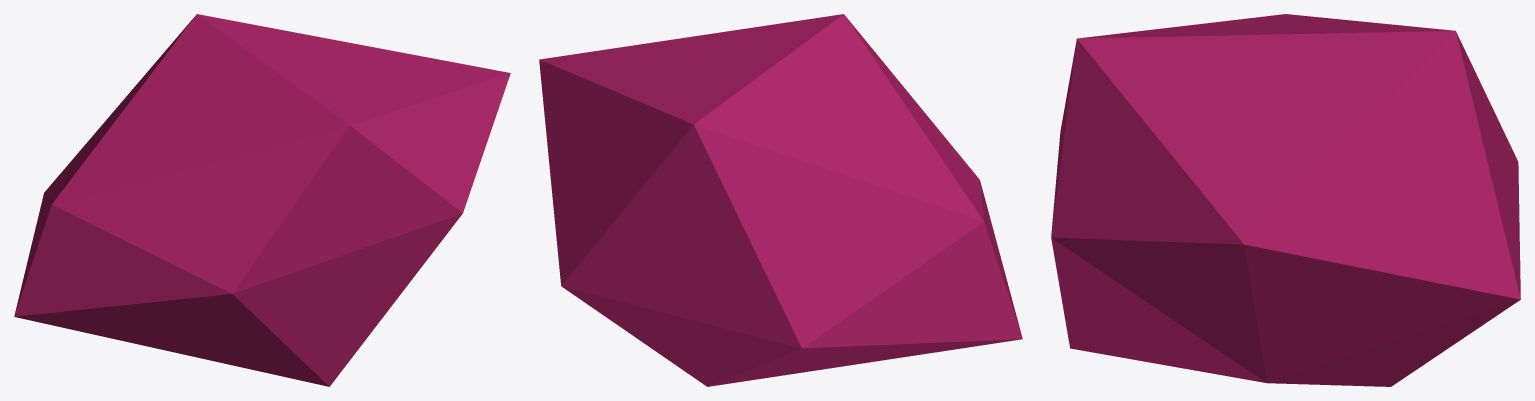
Rendered from rock.glb.
3 renders of one model, left to right at view 1: azimuth 30°, elevation 25°; view 2: azimuth 150°, elevation 25°; view 3: azimuth 270°, elevation 25°, orthographic. The views are drawn at different scales.
Visible parts, largest first — view 1: Rock; view 2: Rock; view 3: Rock.
Part boxes in pixels (x1,y1,x2,y2): Rock: (14, 14, 510, 386); Rock: (539, 14, 1022, 386); Rock: (1051, 14, 1520, 386).
Bounding box in the file's own units: 0.8739 × 0.475 × 0.5802.
